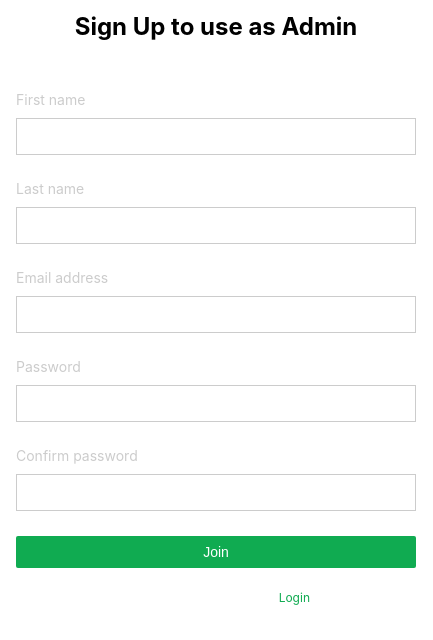
Test: template spec › fills inputs and clicks button
Type "Akin" into the field named "lastName" below "Last name" at (216, 226), box [16,207,416,244]
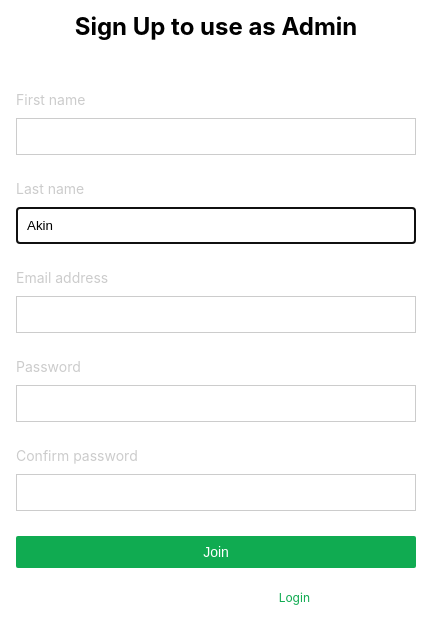
Type "lape@gmail.com" into the field named "email" below "Email address" at (216, 315), box [16,296,416,333]
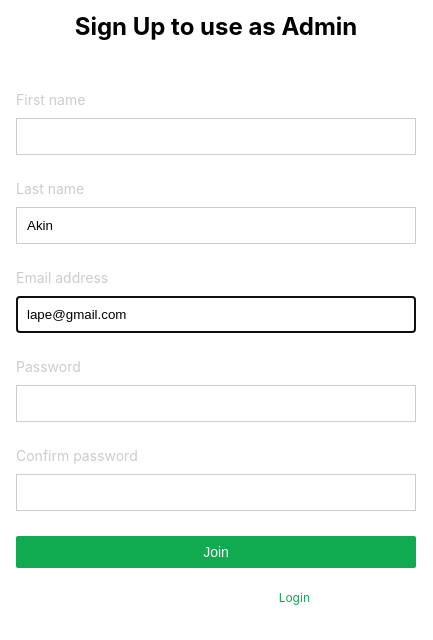
Type "Password" into the 1st password field named "password" at (216, 404), box [16,385,416,422]
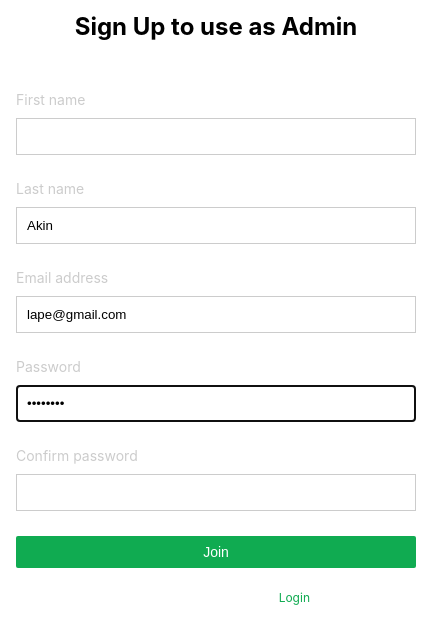
Submit the form
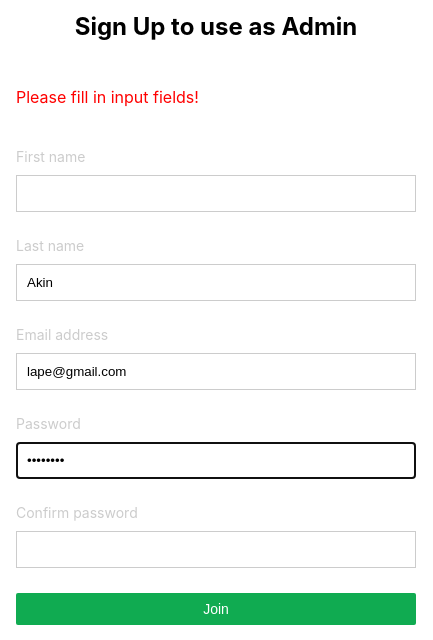
Check: the text "Please fill in input fields!" is shown, box [16,87,199,107]
